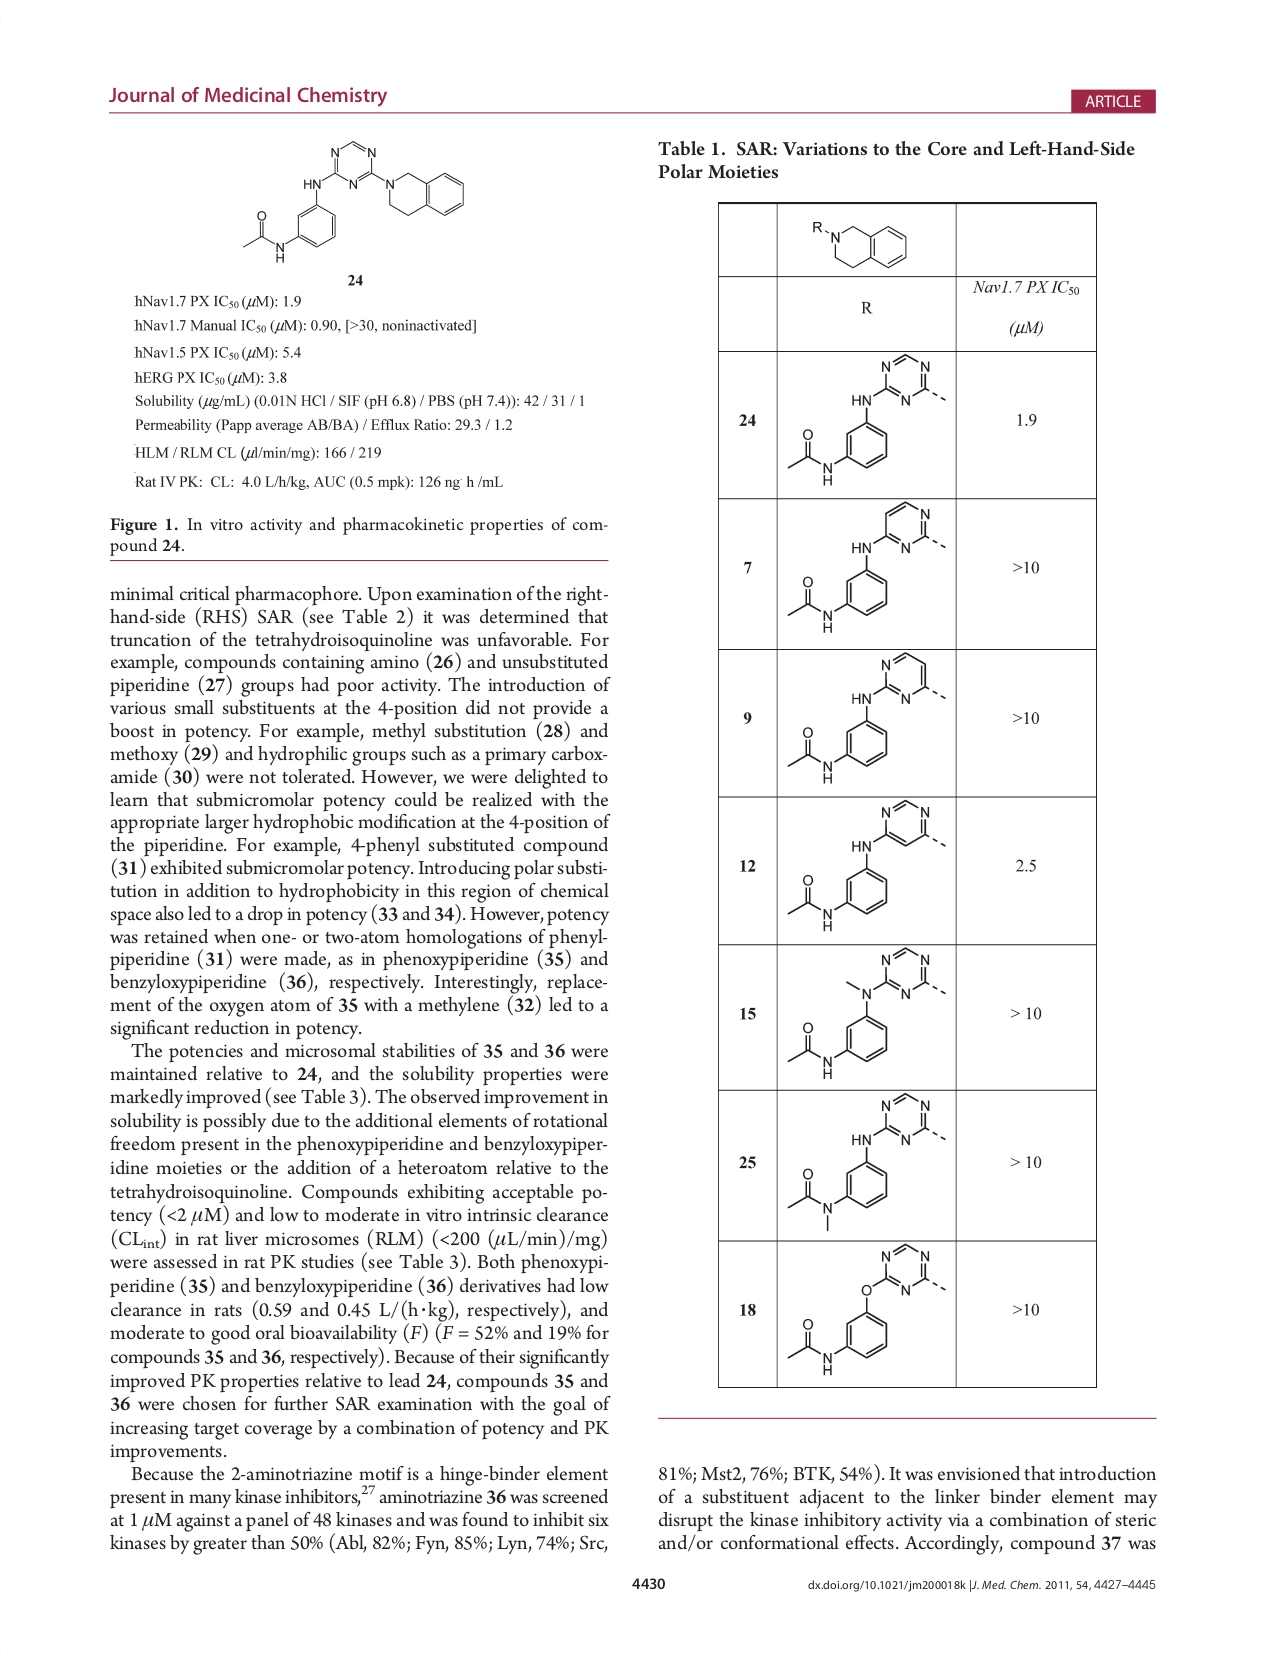exist_molecular: (239, 134, 469, 265), (785, 1091, 949, 1231), (785, 352, 949, 489), (785, 798, 951, 934), (786, 497, 949, 634), (785, 650, 948, 787), (785, 944, 949, 1080), (785, 1243, 947, 1376), (807, 210, 910, 269)
